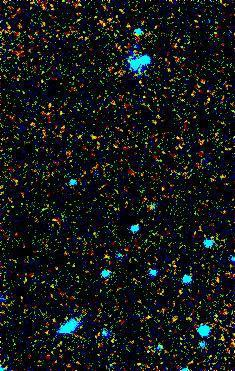star: (93, 236, 123, 266)
